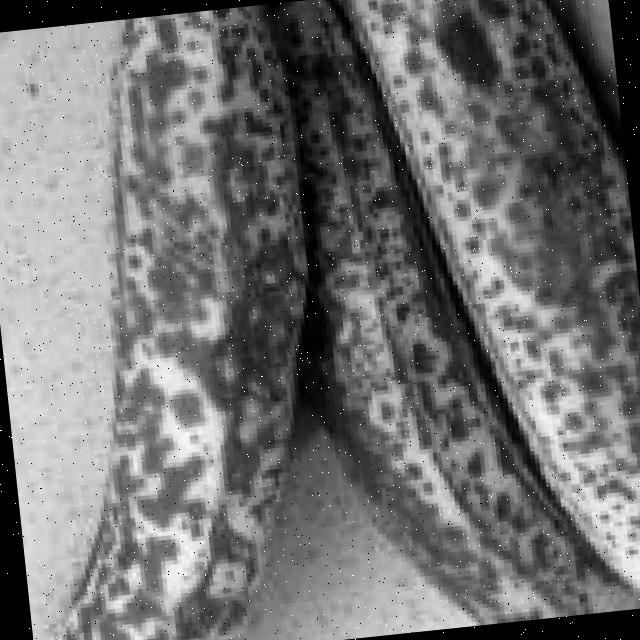Bad_Banana-0 day: (48, 0, 640, 640)
